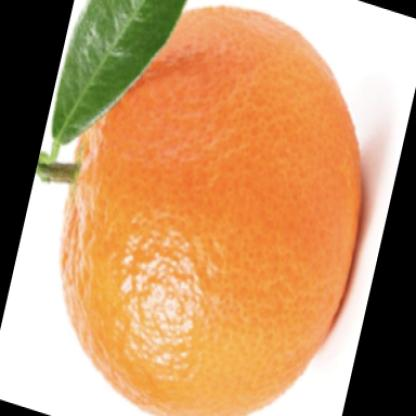fresh: (60, 4, 363, 416)
